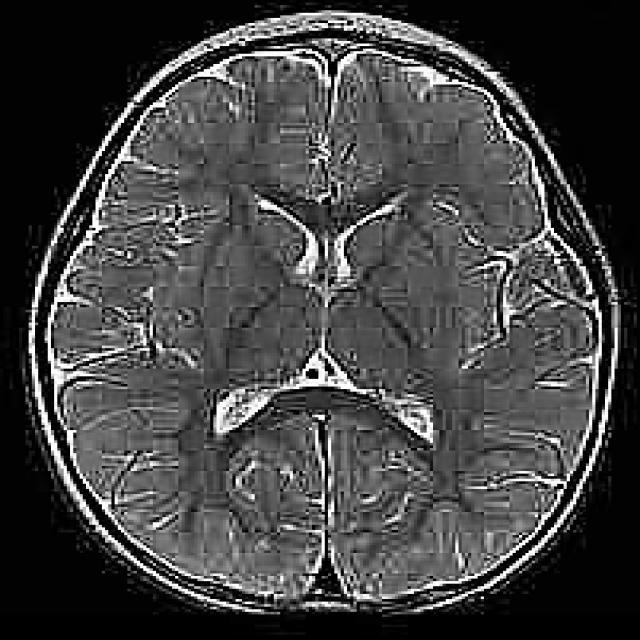notumor: (32, 10, 618, 612)
